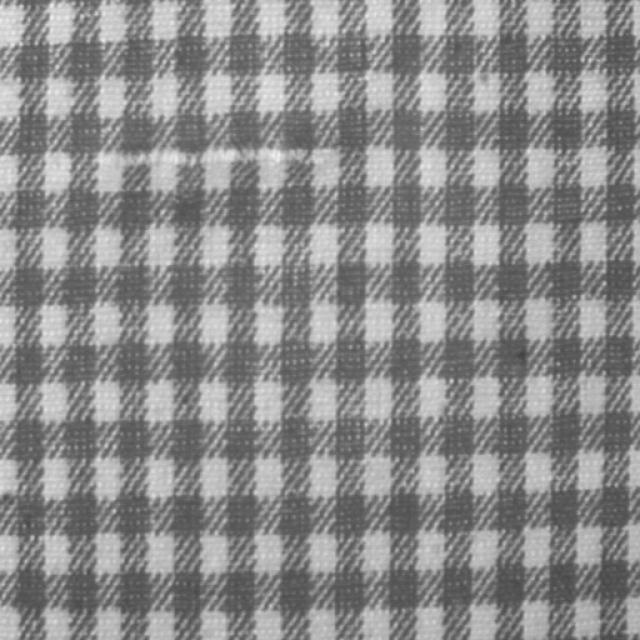Thread-Defect: (95, 148, 339, 170)
